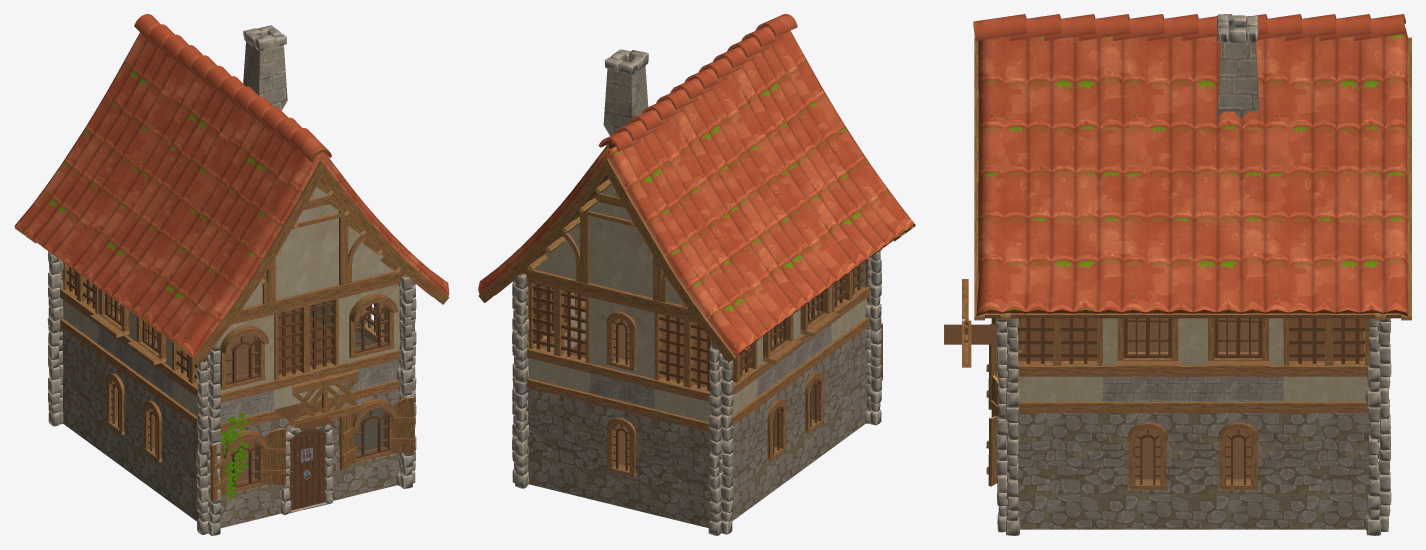
Rendered from house_stone_tall.gltf.
3 renders of one model, left to right at view 1: azimuth 30°, elevation 25°; view 2: azimuth 150°, elevation 25°; view 3: azimuth 270°, elevation 25°, orthographic. The views are drawn at different scales.
Parts seen in each view (by area): view 1: Roof_RoundTiles_6x8, Roof_Front_Brick6, Wall_Plaster_WoodGrid, Wall_UnevenBrick_Straight.002, Wall_Plaster_Window_Wide_Round.001, Wall_UnevenBrick_Window_Thin_Round.001, Wall_UnevenBrick_Window_Thin_Round.002, Prop_Chimney, Wall_UnevenBrick_Window_Wide_Round.001, Wall_Plaster_Window_Wide_Round, Wall_UnevenBrick_Straight.003, Wall_UnevenBrick_Window_Wide_Round (+30 smaller); view 2: Roof_RoundTiles_6x8, Roof_Front_Brick6.001, Wall_UnevenBrick_Straight, Wall_UnevenBrick_Straight.001, Wall_UnevenBrick_Window_Thin_Round, Wall_Plaster_WoodGrid.001, Wall_Plaster_Window_Thin_Round, Wall_Plaster_WoodGrid.002, Wall_UnevenBrick_Straight.003, Wall_UnevenBrick_Window_Thin_Round.002, Wall_UnevenBrick_Window_Thin_Round.001, Prop_Chimney (+19 smaller); view 3: Roof_RoundTiles_6x8, Wall_UnevenBrick_Straight.005, Wall_UnevenBrick_Straight.004, Wall_UnevenBrick_Window_Thin_Round.003, Wall_UnevenBrick_Window_Thin_Round.004, Wall_Plaster_WoodGrid.005, Wall_Plaster_WoodGrid.006, Wall_Plaster_Window_Wide_Flat.002, Wall_Plaster_Window_Wide_Flat.003, Prop_Chimney, Corner_Exterior_Brick.002, Corner_Exterior_Brick.001 (+15 smaller).
Boxes of the visible parts, <box> form: Roof_RoundTiles_6x8: <box>14,14,449,363</box>; Roof_Front_Brick6: <box>233,181,404,321</box>; Wall_Plaster_WoodGrid: <box>274,295,340,409</box>; Wall_UnevenBrick_Straight.002: <box>60,318,97,448</box>; Wall_Plaster_Window_Wide_Round.001: <box>338,280,400,393</box>; Wall_UnevenBrick_Window_Thin_Round.001: <box>95,344,135,475</box>; Wall_UnevenBrick_Window_Thin_Round.002: <box>132,371,172,503</box>; Prop_Chimney: <box>243,25,287,110</box>; Wall_UnevenBrick_Window_Wide_Round.001: <box>338,380,400,499</box>; Wall_Plaster_Window_Wide_Round: <box>219,311,275,422</box>; Wall_UnevenBrick_Straight.003: <box>169,398,198,521</box>; Wall_UnevenBrick_Window_Wide_Round: <box>220,410,275,528</box>; Roof_RoundTiles_6x8: <box>478,14,915,362</box>; Roof_Front_Brick6.001: <box>523,179,695,319</box>; Wall_UnevenBrick_Straight: <box>527,378,589,498</box>; Wall_UnevenBrick_Straight.001: <box>653,409,711,527</box>; Wall_UnevenBrick_Window_Thin_Round: <box>588,393,654,514</box>; Wall_Plaster_WoodGrid.001: <box>527,278,589,392</box>; Wall_Plaster_Window_Thin_Round: <box>588,293,654,408</box>; Wall_Plaster_WoodGrid.002: <box>653,309,711,421</box>; Wall_UnevenBrick_Straight.003: <box>831,317,870,448</box>; Wall_UnevenBrick_Window_Thin_Round.002: <box>794,343,834,475</box>; Wall_UnevenBrick_Window_Thin_Round.001: <box>757,370,797,502</box>; Prop_Chimney: <box>603,49,648,135</box>; Roof_RoundTiles_6x8: <box>973,14,1411,320</box>; Wall_UnevenBrick_Straight.005: <box>1283,401,1369,529</box>; Wall_UnevenBrick_Straight.004: <box>1017,401,1102,529</box>; Wall_UnevenBrick_Window_Thin_Round.003: <box>1102,401,1193,529</box>; Wall_UnevenBrick_Window_Thin_Round.004: <box>1193,401,1283,529</box>; Wall_Plaster_WoodGrid.005: <box>1017,318,1102,401</box>; Wall_Plaster_WoodGrid.006: <box>1283,318,1369,401</box>; Wall_Plaster_Window_Wide_Flat.002: <box>1102,318,1193,401</box>; Wall_Plaster_Window_Wide_Flat.003: <box>1193,318,1283,401</box>; Prop_Chimney: <box>1216,14,1260,130</box>; Corner_Exterior_Brick.002: <box>1365,399,1391,535</box>; Corner_Exterior_Brick.001: <box>996,404,1019,535</box>.
Size of what is drawn, in the model's own units: 8.25 by 11.72 by 10.33.
10 materials, 9 textured.
